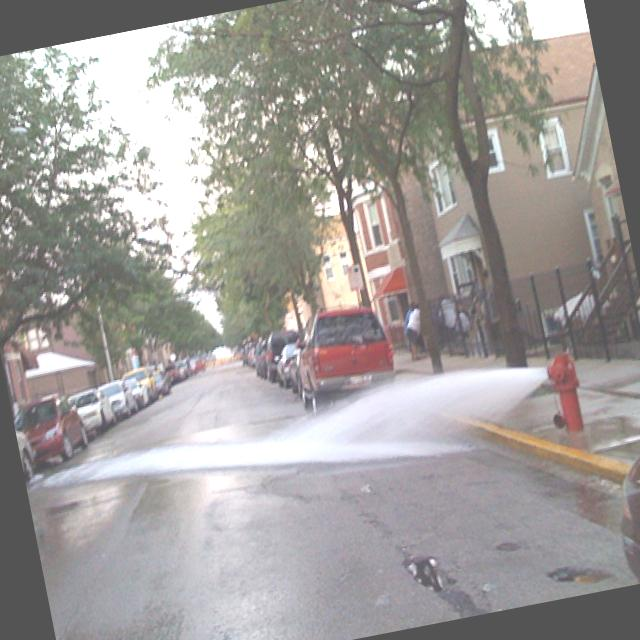Vehicle: (0, 36, 639, 501), (280, 296, 402, 418), (596, 430, 640, 587), (9, 387, 92, 467), (66, 384, 120, 438), (258, 328, 306, 384), (96, 376, 142, 423), (270, 342, 307, 392), (121, 366, 160, 407), (122, 374, 151, 410), (151, 367, 172, 394), (165, 364, 183, 386), (175, 359, 192, 382), (189, 356, 208, 376)
